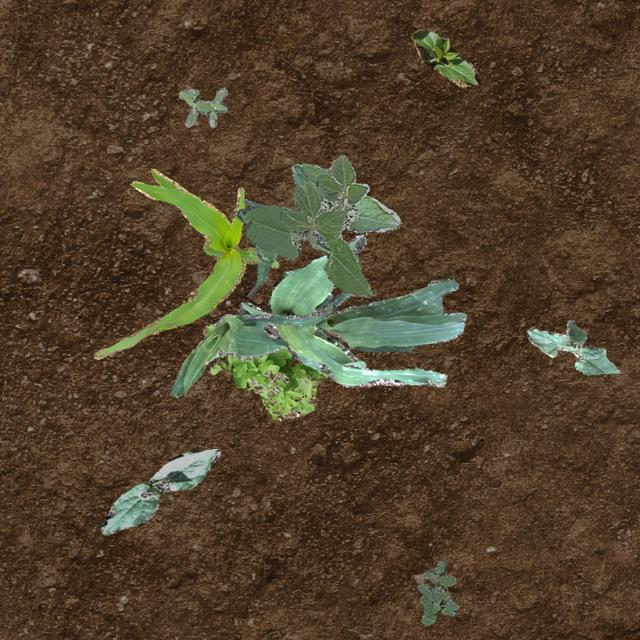crop: (92, 168, 278, 358), (237, 234, 446, 386), (236, 154, 400, 296), (168, 304, 334, 396), (312, 278, 466, 352), (100, 448, 218, 534), (526, 319, 620, 373), (409, 28, 478, 88), (242, 198, 276, 296)
weed: (201, 322, 327, 418), (417, 560, 458, 624), (178, 86, 226, 126), (246, 368, 288, 399)
